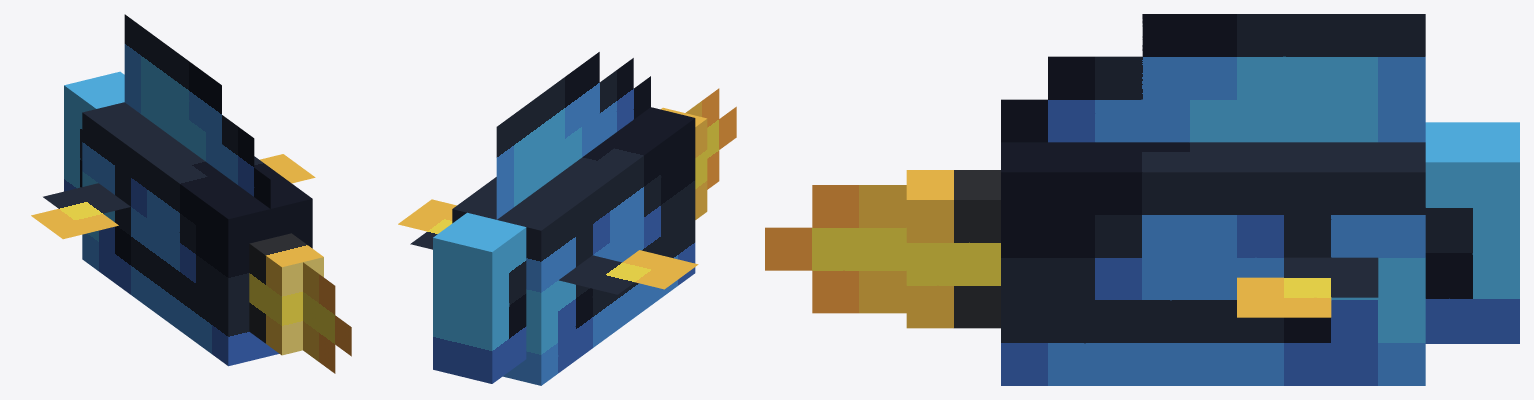
The model's file is blue_tang.gltf.
The picture shows the model from 3 angles, left to right: view 1: azimuth 30°, elevation 25°; view 2: azimuth 150°, elevation 25°; view 3: azimuth 270°, elevation 25°; orthographic projection. The views are drawn at different scales.
Parts seen in each view (by area): view 1: cube (×7); view 2: cube (×7); view 3: cube (×6).
Boxes of the visible parts, bbox=[...] form: cube (×7): bbox=[31, 14, 351, 373]; cube (×7): bbox=[398, 52, 736, 385]; cube (×6): bbox=[765, 14, 1519, 385].
Size of the model in its own units: 0.5625 by 0.5 by 1.
1 material, 1 textured.
